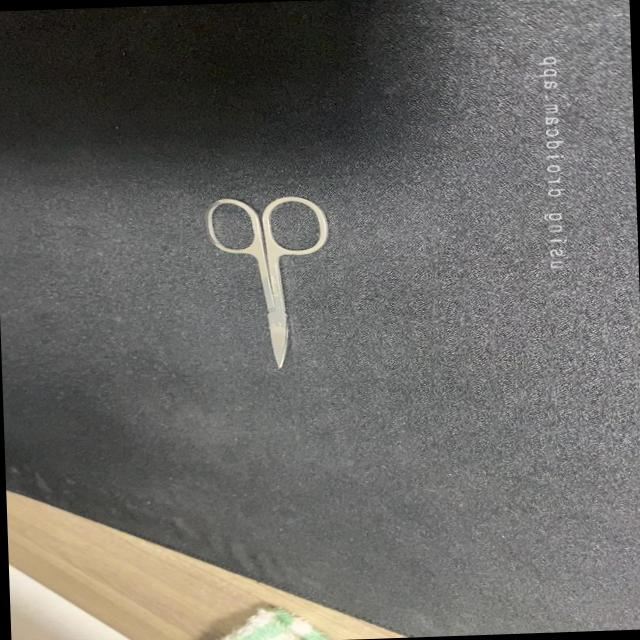scissor: (185, 186, 342, 371)
